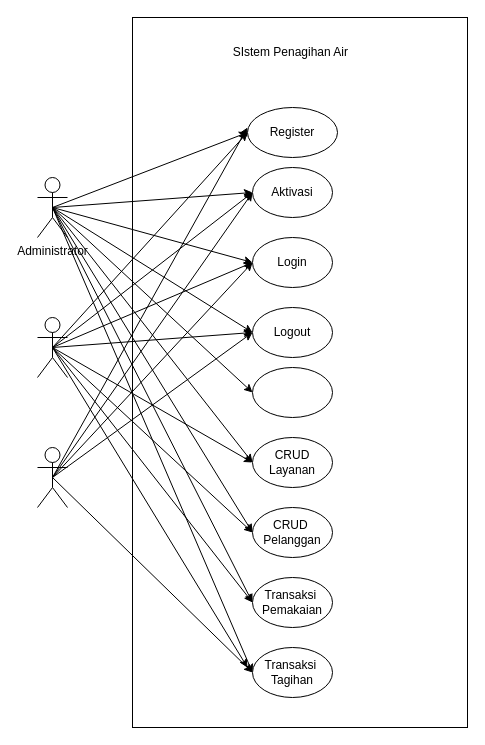
Image size: 485x745. Some labels were removed from this diagram. The centre of each missing label's shape, as x and y in pixels:
"Pelanggan" goes at (52,477).
"Pengaturan Aplikasi" goes at (292,392).
"Petugas" goes at (52,347).
